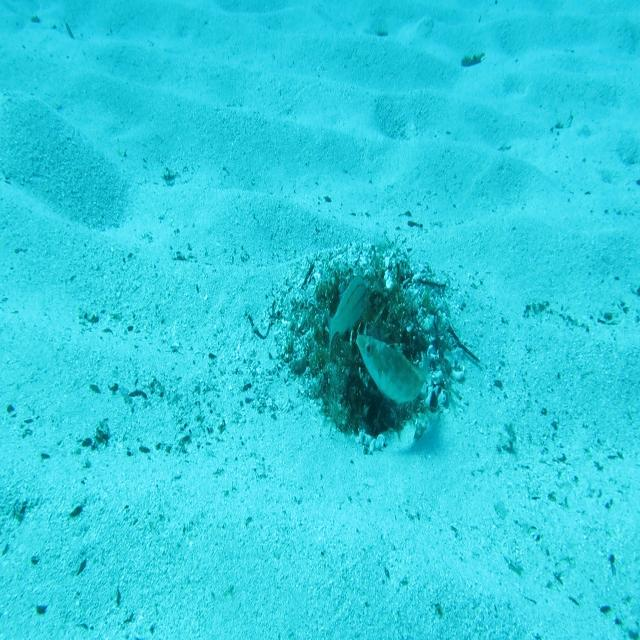BEND: (355, 330, 432, 408)
female: (323, 272, 370, 355)
nest: (253, 211, 468, 465)
vegetation: (460, 53, 486, 73)
